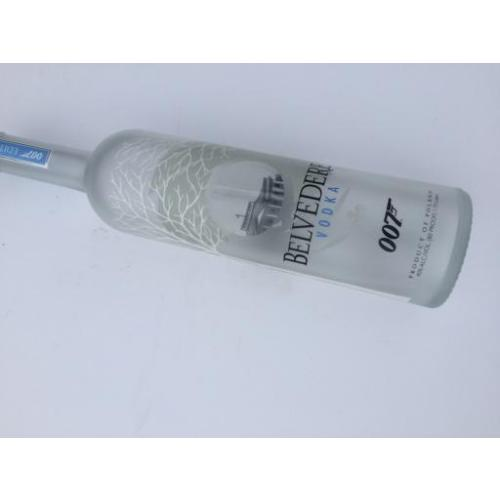glass: (1, 132, 469, 308)
